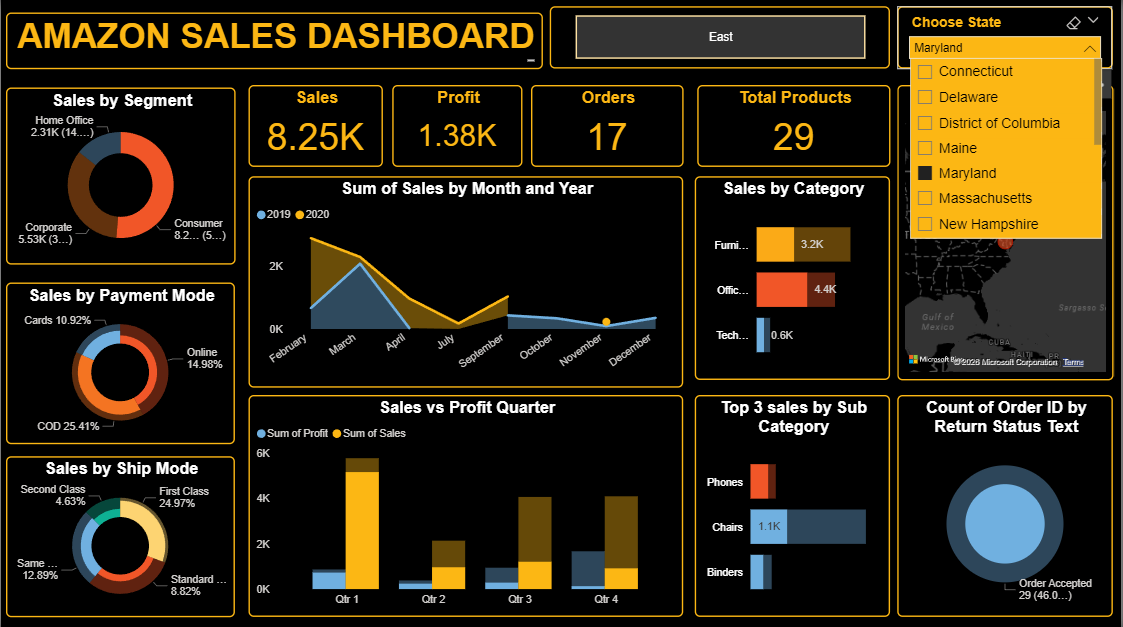

This screenshot's page, from the dashboard's own definition file:
{"tool":"powerbi","page":{"name":"Page 1","canvas":[1280,720],"ordinal":0},"visuals":[{"type":"clusteredBarChart","title":" Sales by Category","fields":{"Category":["Amazon Store Sales Data xlsx - Sheet1 (1).Category"],"Y":["Sum(Amazon Store Sales Data xlsx - Sheet1 (1).Sales)"]},"box":[792.6,201.2,223.3,233.1],"z":0},{"type":"donutChart","title":"Sales by Segment","fields":{"Category":["Amazon Store Sales Data xlsx - Sheet1 (1).Segment"],"Y":["Sum(Amazon Store Sales Data xlsx - Sheet1 (1).Sales)"]},"box":[6.2,100,262.5,202.5],"z":1000},{"type":"barChart","title":"Top 3 sales by Sub Category","fields":{"Category":["Amazon Store Sales Data xlsx - Sheet1 (1).Sub-Category"],"Y":["Sum(Amazon Store Sales Data xlsx - Sheet1 (1).Sales)"],"Series":["Amazon Store Sales Data xlsx - Sheet1 (1).Sub-Category"]},"box":[792.6,451.5,223.3,254],"z":2000},{"type":"textbox","title":"AMAZON SALES DASHBOARD","box":[6.2,13.8,613.8,65],"z":3000},{"type":"donutChart","title":"Sales by Payment Mode","fields":{"Category":["Amazon Store Sales Data xlsx - Sheet1 (1).Payment Mode"],"Y":["Sum(Amazon Store Sales Data xlsx - Sheet1 (1).Sales)"]},"box":[6.2,322.5,261.2,185],"z":4000},{"type":"donutChart","title":" Sales by Ship Mode","fields":{"Category":["Amazon Store Sales Data xlsx - Sheet1 (1).Ship Mode"],"Y":["Sum(Amazon Store Sales Data xlsx - Sheet1 (1).Sales)"]},"box":[5.7,521.4,261.4,184.3],"z":5000},{"type":"card","title":"Sales","fields":{"Values":["Sum(Amazon Store Sales Data xlsx - Sheet1 (1).Sales)"]},"box":[283.4,96.9,153.4,93.3],"z":6000},{"type":"card","title":"Profit","fields":{"Values":["Sum(Amazon Store Sales Data xlsx - Sheet1 (1).Profit)"]},"box":[447.9,96.9,148.5,93.3],"z":7000},{"type":"card","title":"Orders","fields":{"Values":["Amazon Store Sales Data xlsx - Sheet1 (1).Orders"]},"box":[606.1,96.9,174.2,93.3],"z":8000},{"type":"card","title":"Total Products","fields":{"Values":["Amazon Store Sales Data xlsx - Sheet1 (1).Total Products"]},"box":[795.1,96.9,220.9,93.3],"z":9000},{"type":"map","title":"Sum of Sales by State","fields":{"Category":["Amazon Store Sales Data xlsx - Sheet1 (1).State"],"Size":["Avg(Amazon Store Sales Data xlsx - Sheet1 (1).Sales)"]},"box":[1023.8,97.5,247.5,337.5],"z":10000},{"type":"stackedAreaChart","fields":{"Category":["Amazon Store Sales Data xlsx - Sheet1 (1).Order Date.Variation.Date Hierarchy.Month"],"Y":["Sum(Amazon Store Sales Data xlsx - Sheet1 (1).Sales)"],"Series":["Amazon Store Sales Data xlsx - Sheet1 (1).Order Date.Variation.Date Hierarchy.Year"]},"box":[283.4,201.2,496.9,241.7],"z":11000},{"type":"clusteredColumnChart","title":"Sales vs Profit Quarter","fields":{"Category":["Amazon Store Sales Data xlsx - Sheet1 (1).Order Date.Variation.Date Hierarchy.Quarter"],"Y":["Sum(Amazon Store Sales Data xlsx - Sheet1 (1).Profit)","Sum(Amazon Store Sales Data xlsx - Sheet1 (1).Sales)"]},"box":[283.4,451.5,496.9,254],"z":12000},{"type":"pieChart","fields":{"Y":["CountNonNull(Amazon Store Sales Data xlsx - Sheet1 (1).Order ID)"],"Category":["Amazon Store Sales Data xlsx - Sheet1 (1).Return Status Text"]},"box":[1024,452,246.7,253.3],"z":13000},{"type":"slicer","fields":{"Values":["Amazon Store Sales Data xlsx - Sheet1 (1).Region"]},"box":[627.5,7.5,388.8,71.2],"z":14000},{"type":"slicer","fields":{"Values":["Amazon Store Sales Data xlsx - Sheet1 (1).State"]},"box":[1023.8,7.5,246.2,71.2],"z":14001}]}

Visuals, with their boxes in screenshot pixels (x1, y1, x2, y2), scaled from the page's 1280x720 canvas onto the 1123x627 screenshot:
" Sales by Category" clusteredBarChart: Rect(695, 175, 891, 378)
"Sales by Segment" donutChart: Rect(5, 87, 236, 263)
"Top 3 sales by Sub Category" barChart: Rect(695, 393, 891, 614)
"AMAZON SALES DASHBOARD" textbox: Rect(5, 12, 544, 69)
"Sales by Payment Mode" donutChart: Rect(5, 281, 235, 442)
" Sales by Ship Mode" donutChart: Rect(5, 454, 234, 615)
"Sales" card: Rect(249, 84, 383, 166)
"Profit" card: Rect(393, 84, 523, 166)
"Orders" card: Rect(532, 84, 685, 166)
"Total Products" card: Rect(698, 84, 891, 166)
"Sum of Sales by State" map: Rect(898, 85, 1115, 379)
stackedAreaChart - Amazon Store Sales Data xlsx - Sheet1 (1).Order Date.Variation.Date Hierarchy.Month x Sum(Amazon Store Sales Data xlsx - Sheet1 (1).Sales): Rect(249, 175, 685, 386)
"Sales vs Profit Quarter" clusteredColumnChart: Rect(249, 393, 685, 614)
pieChart - CountNonNull(Amazon Store Sales Data xlsx - Sheet1 (1).Order ID) x Amazon Store Sales Data xlsx - Sheet1 (1).Return Status Text: Rect(898, 394, 1115, 614)
slicer - Amazon Store Sales Data xlsx - Sheet1 (1).Region: Rect(551, 7, 892, 69)
slicer - Amazon Store Sales Data xlsx - Sheet1 (1).State: Rect(898, 7, 1114, 69)
